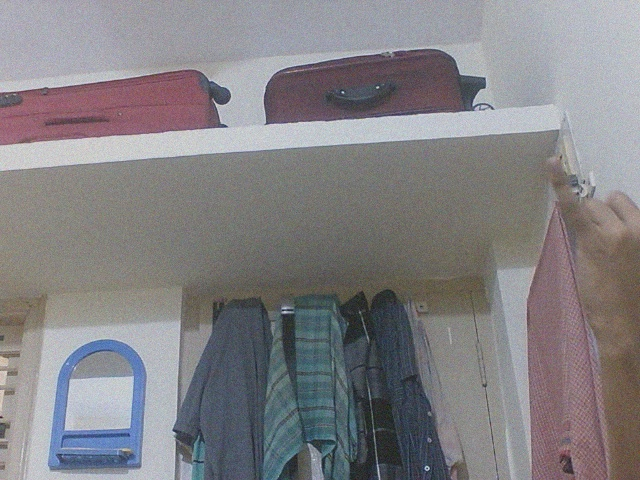hand: (542, 148, 640, 380)
